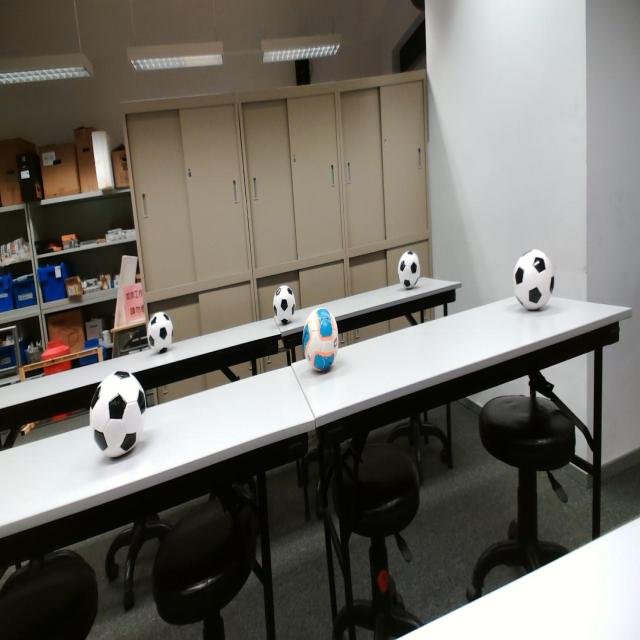Soccer Ball: (92, 371, 146, 459), (514, 250, 555, 311), (301, 306, 338, 372), (147, 311, 173, 354), (273, 286, 295, 326), (398, 251, 420, 288)
